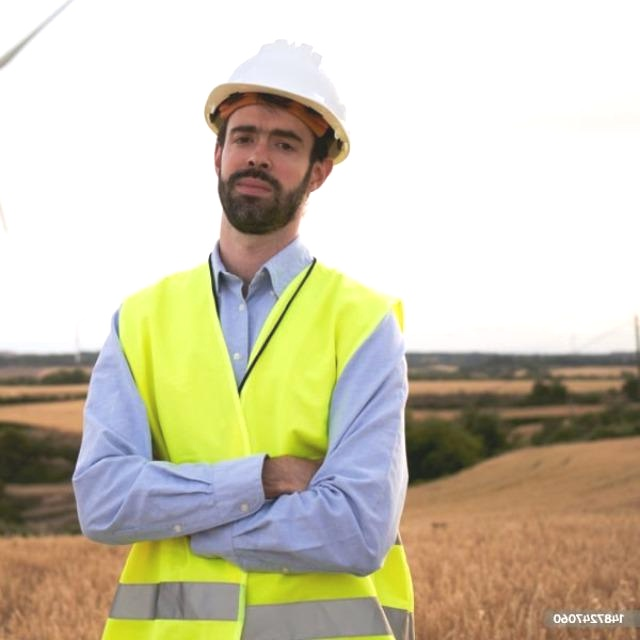Con_Casco: (199, 38, 356, 230)
Con_Chaleco: (107, 259, 401, 640)
